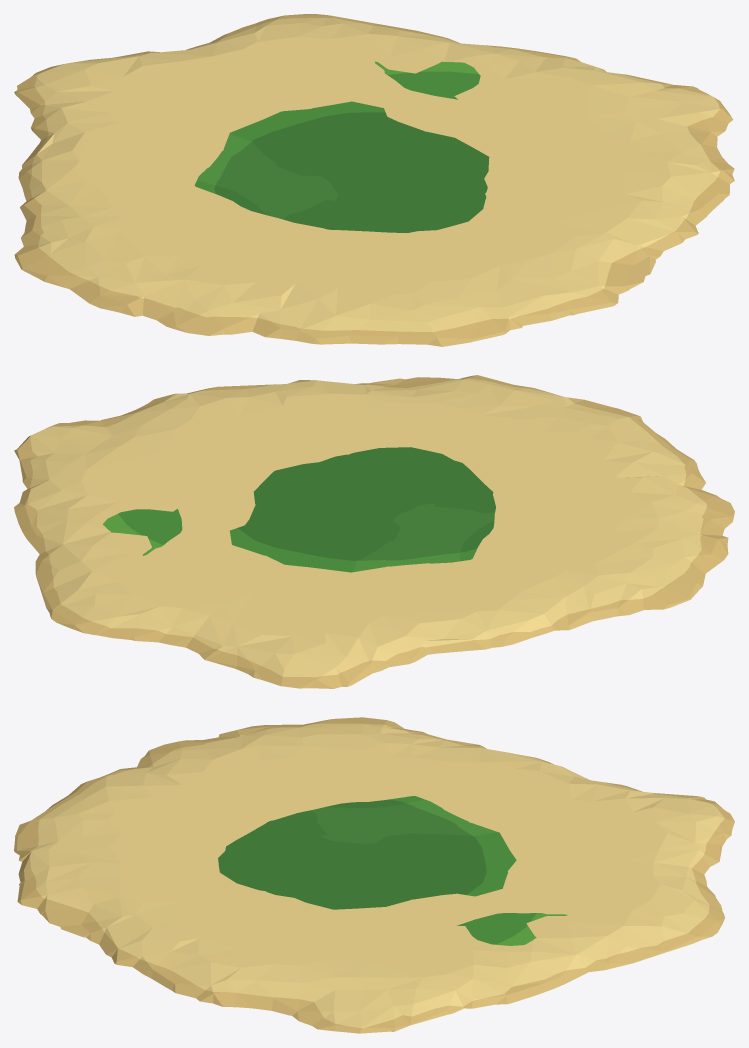
The model's file is Isl-islet3-Ground.fbx.
3 renders of one model, top to bottom at view 1: azimuth 30°, elevation 25°; view 2: azimuth 150°, elevation 25°; view 3: azimuth 270°, elevation 25°, orthographic. The views are drawn at different scales.
Parts seen in each view (by area): view 1: Isl-islet3-Ground-c11, Isl-islet3-Ground-c12, Isl-islet3-Ground-c21, Isl-islet3-Ground-c22; view 2: Isl-islet3-Ground-c12, Isl-islet3-Ground-c22, Isl-islet3-Ground-c11, Isl-islet3-Ground-c21; view 3: Isl-islet3-Ground-c22, Isl-islet3-Ground-c21, Isl-islet3-Ground-c11, Isl-islet3-Ground-c12.
Part boxes in pixels (x1,y1,x2,y2): Isl-islet3-Ground-c11: (22, 176, 551, 346); Isl-islet3-Ground-c12: (14, 49, 373, 269); Isl-islet3-Ground-c21: (374, 97, 734, 320); Isl-islet3-Ground-c22: (186, 14, 720, 176); Isl-islet3-Ground-c12: (186, 501, 690, 688); Isl-islet3-Ground-c22: (14, 435, 367, 647); Isl-islet3-Ground-c11: (368, 388, 734, 599); Isl-islet3-Ground-c21: (32, 375, 532, 501); Isl-islet3-Ground-c22: (349, 858, 724, 1033); Isl-islet3-Ground-c21: (17, 858, 363, 1032); Isl-islet3-Ground-c11: (14, 717, 367, 873); Isl-islet3-Ground-c12: (348, 717, 734, 874).
Bounding box in the file's own units: 24.69 × 0.47 × 23.79.
